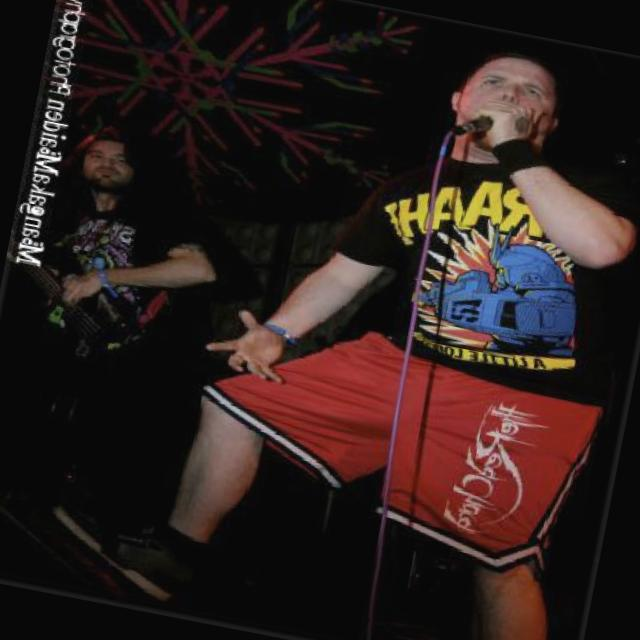Person: (161, 11, 640, 640), (0, 114, 236, 522)
